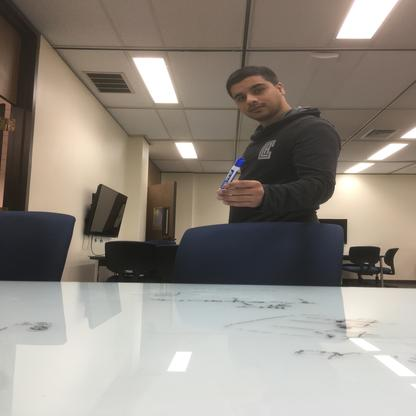expo_marker: (218, 156, 247, 192)
